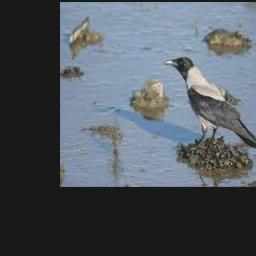Crow: (163, 56, 256, 149)
